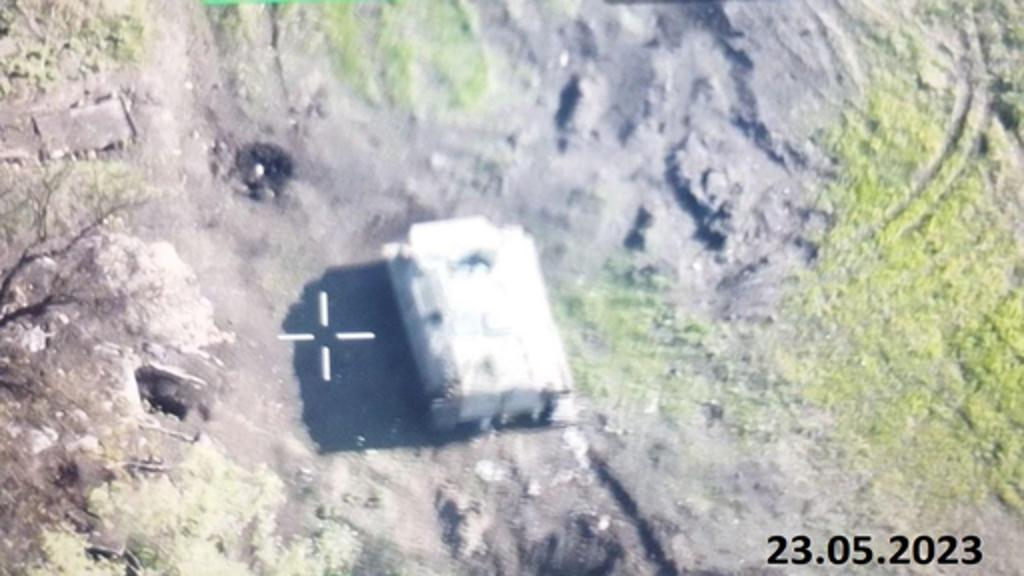APC-IFV: (370, 196, 578, 440)
